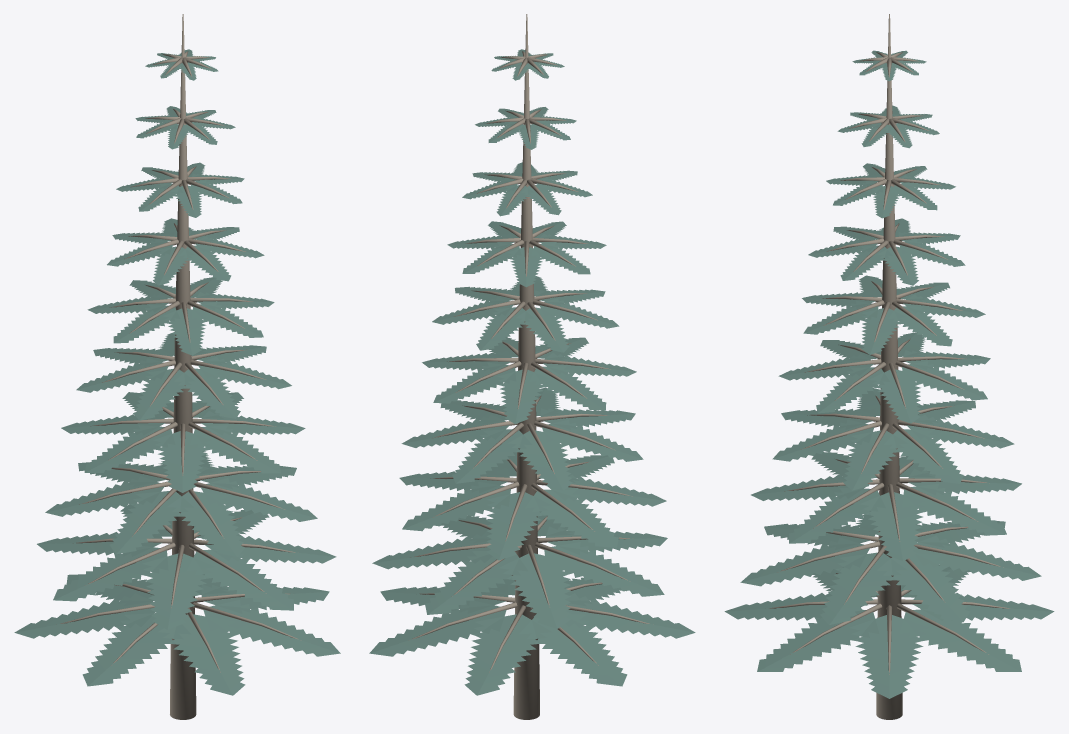
The model's file is alpine-and-arctic-biomes-alpine-spruce-573fdddd__20926.glb.
3 views of the same model, side by side, from view 1: azimuth 30°, elevation 25°; view 2: azimuth 150°, elevation 25°; view 3: azimuth 270°, elevation 25° (orthographic).
Visible parts, largest first — view 1: alpine-spruce; view 2: alpine-spruce; view 3: alpine-spruce.
Boxes of the visible parts, left/top/right/bottom form: alpine-spruce: left=14, top=14, right=340, bottom=719; alpine-spruce: left=369, top=14, right=695, bottom=719; alpine-spruce: left=724, top=14, right=1054, bottom=719.
Bounding box in the file's own units: 8.59 × 20.46 × 8.75.
